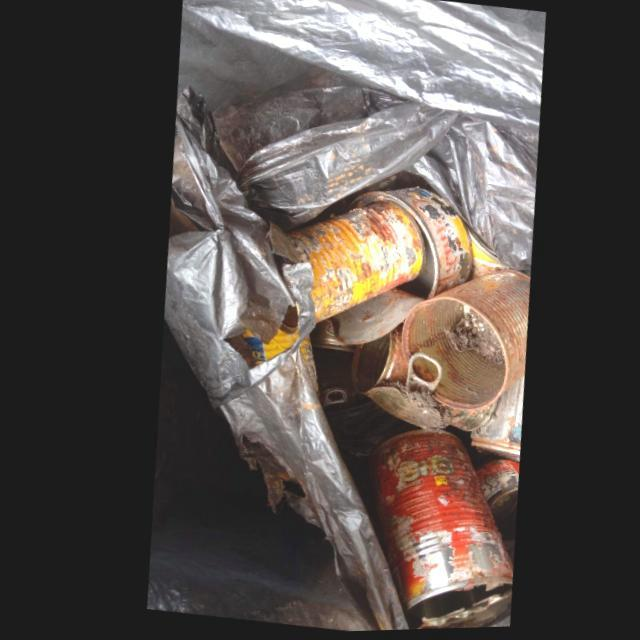aluminum: (343, 430, 503, 629), (266, 193, 421, 325), (394, 271, 525, 412), (345, 321, 478, 434), (343, 189, 467, 301), (463, 378, 517, 463), (466, 453, 511, 513)
